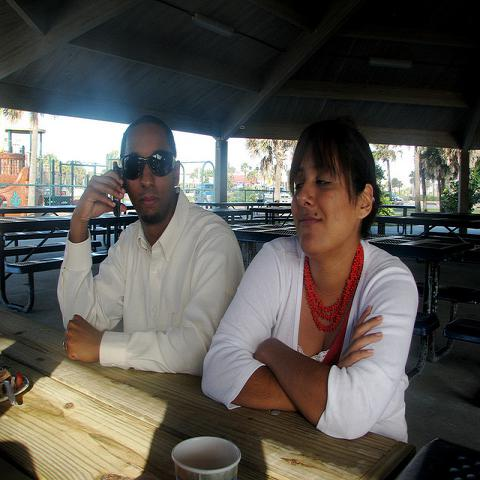car: (192, 184, 214, 203), (392, 192, 404, 205)
